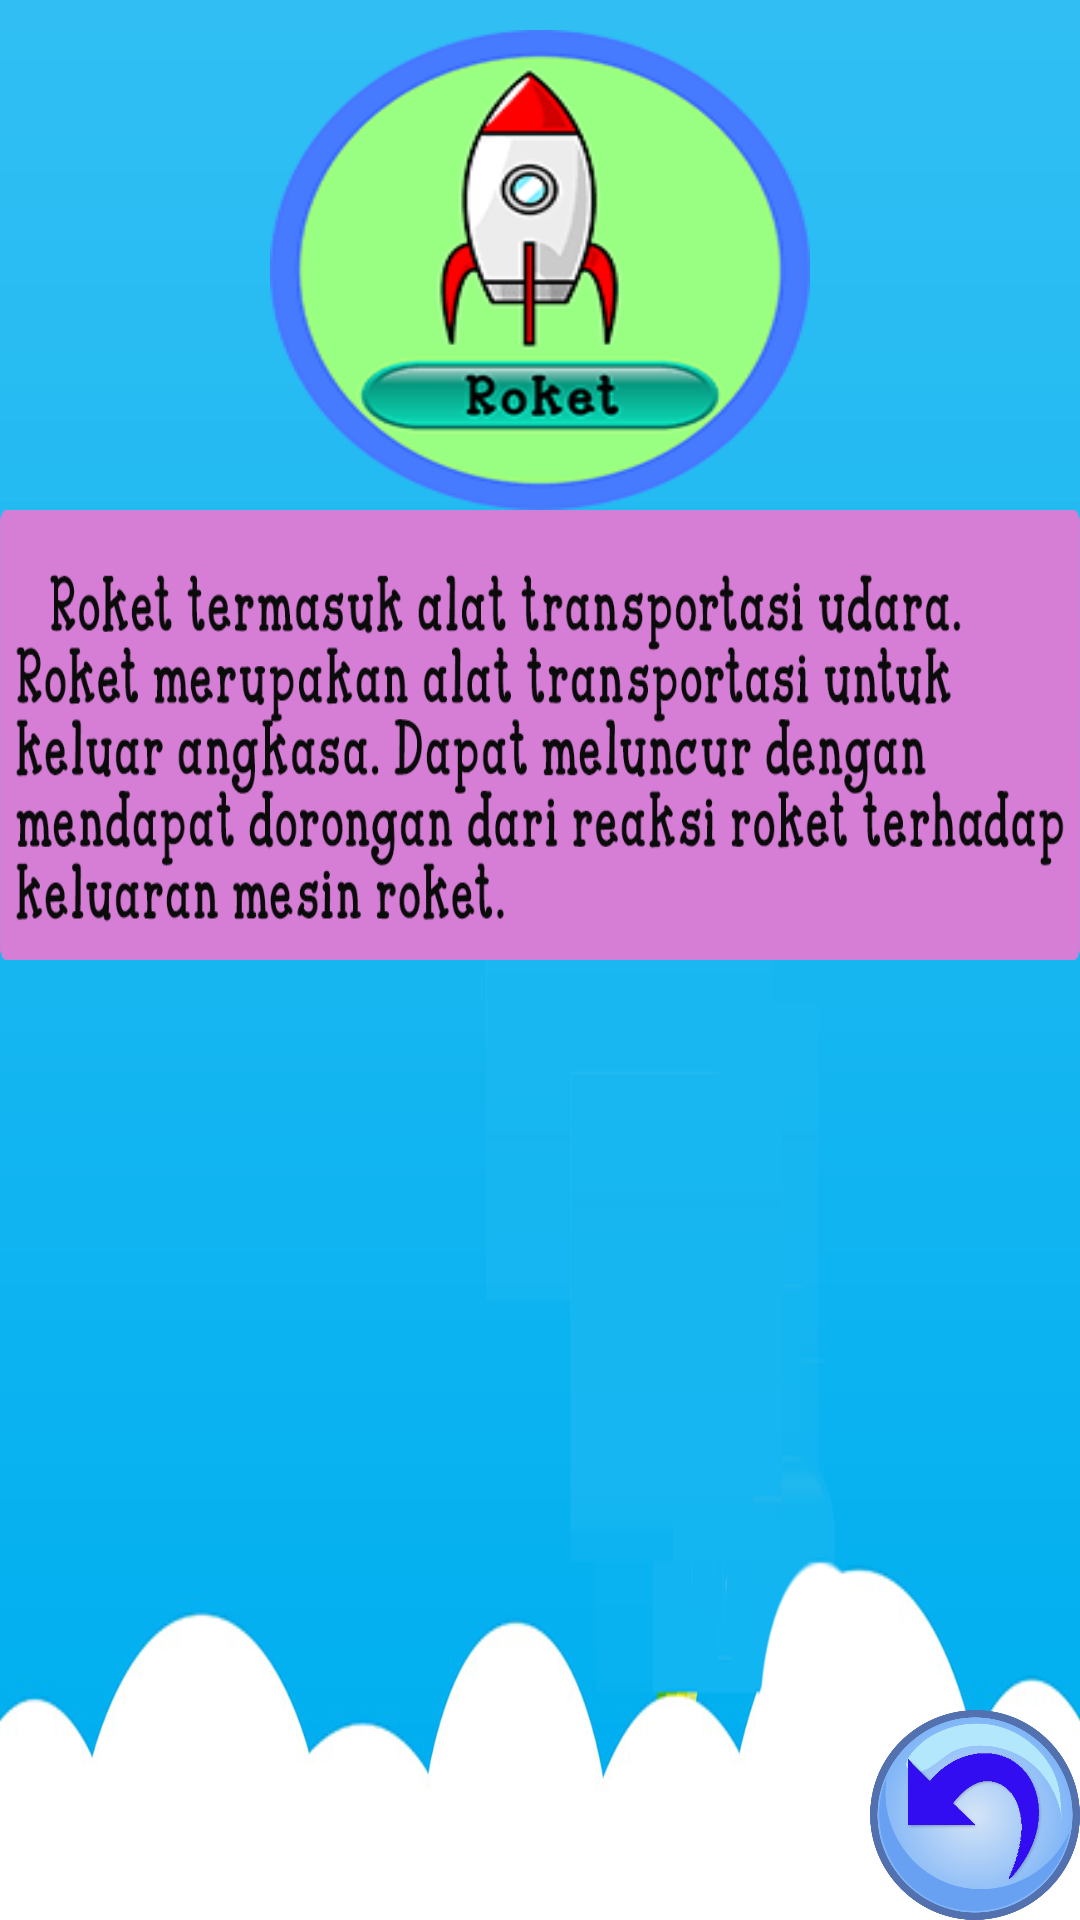

Icons on this 1080*1920 Android screen, each with the point to tap as point (x, y):
back: point (975, 1815)
